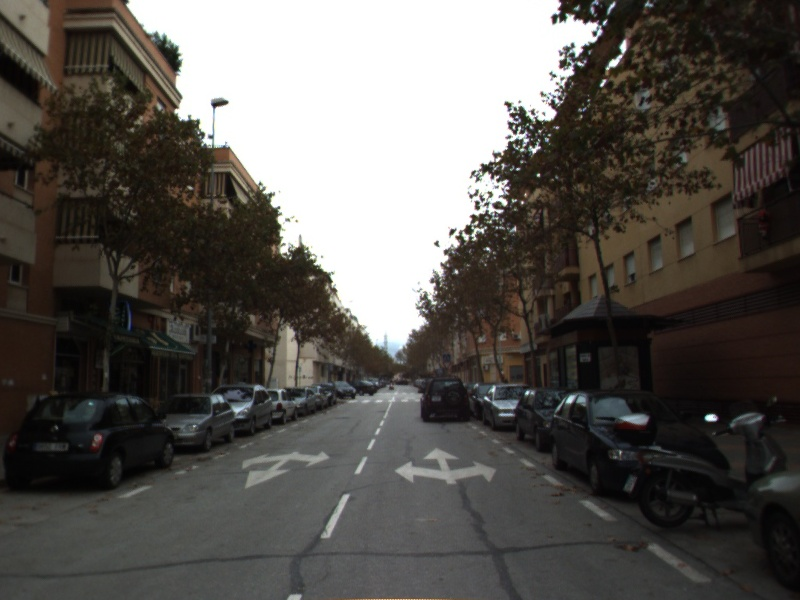STRAIGHT_LEFT_RIGHT: (392, 446, 499, 486)
